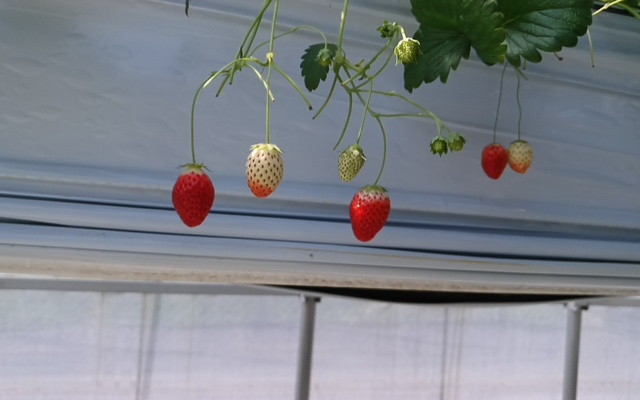GreenStrawberry: (245, 141, 287, 200), (338, 144, 367, 183), (506, 140, 535, 177)
MatureStrawberry: (169, 160, 217, 229), (349, 182, 391, 245), (480, 141, 510, 182)
